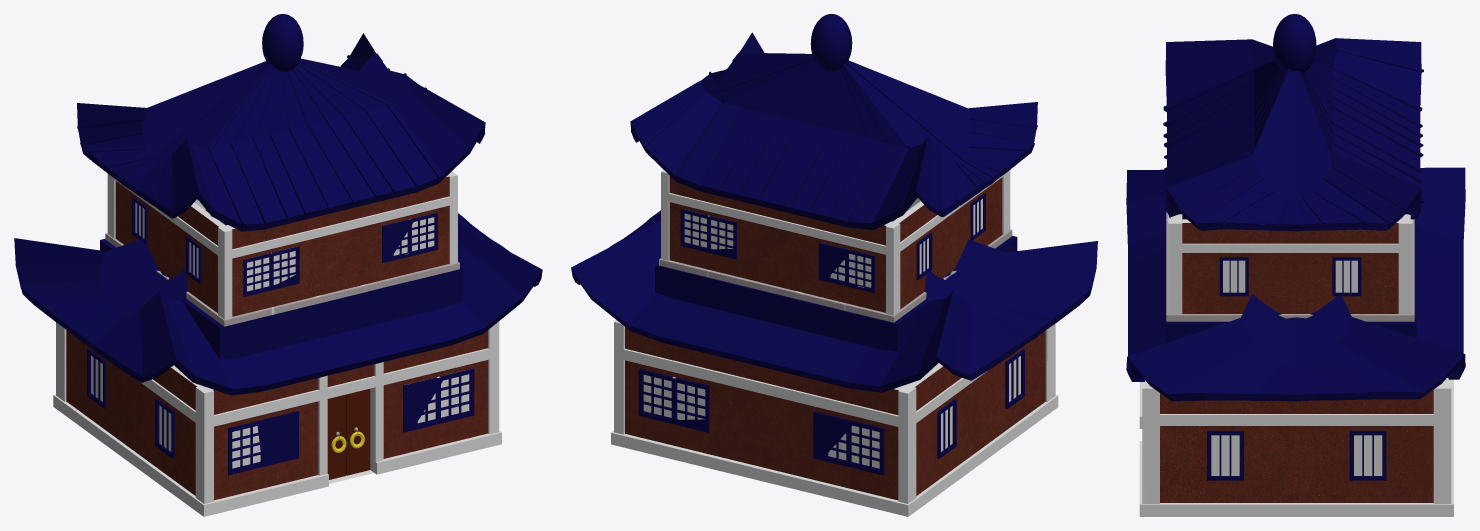
Rendered from casa com textura.fbx.
3 views of the same model, side by side, from view 1: azimuth 30°, elevation 25°; view 2: azimuth 150°, elevation 25°; view 3: azimuth 270°, elevation 25° (orthographic). The views are drawn at different scales.
Parts seen in each view (by area): view 1: Sphere.001; view 2: Sphere.001; view 3: Sphere.001.
Boxes of the visible parts, <box> form: Sphere.001: <box>14,14,542,516</box>; Sphere.001: <box>571,14,1097,516</box>; Sphere.001: <box>1126,14,1465,516</box>.
Size of the model in its own units: 832 by 801 by 575.
Materials: 9 (2 with a texture image).
